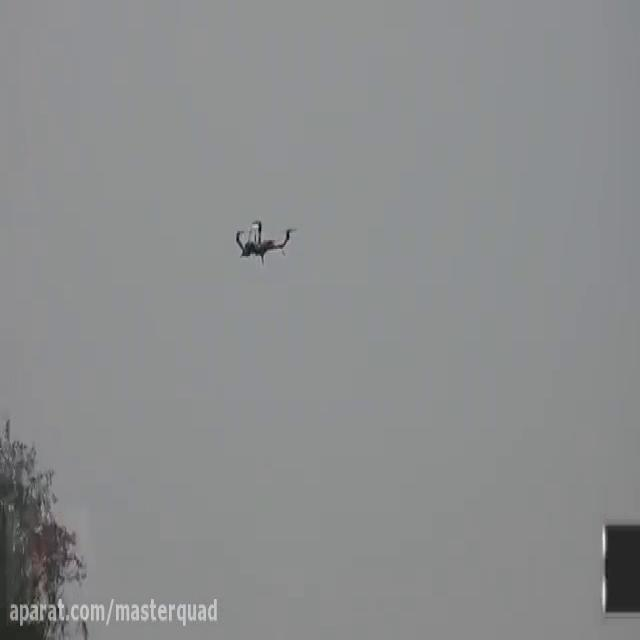drone: (231, 210, 300, 268)
